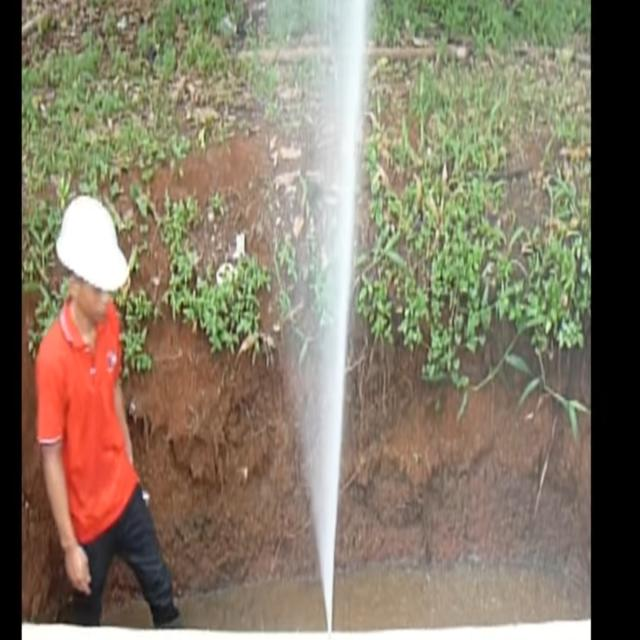leak: (254, 0, 374, 634)
